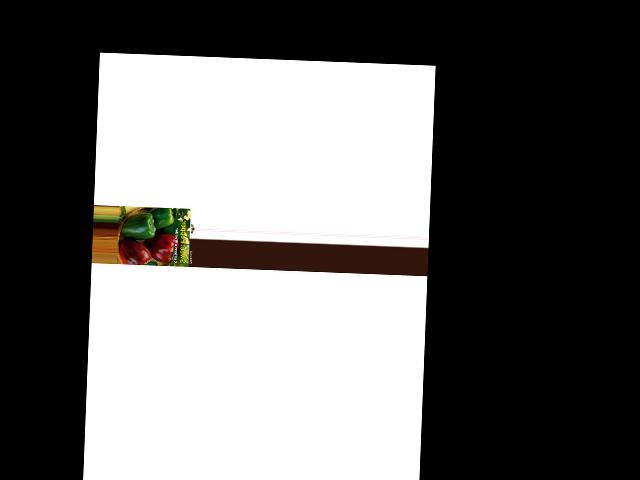bell_pepper: (145, 205, 176, 227)
